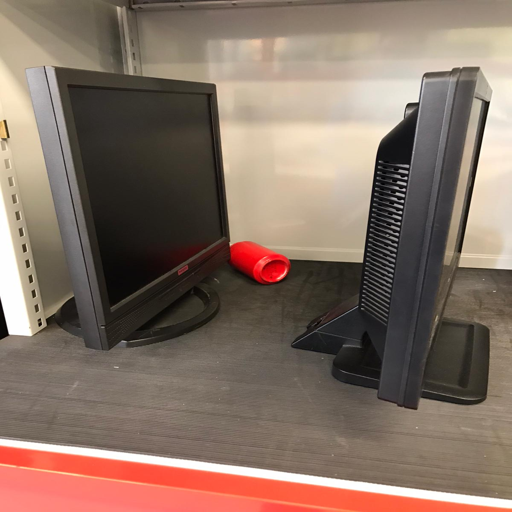Red_Can: (223, 239, 291, 284)
